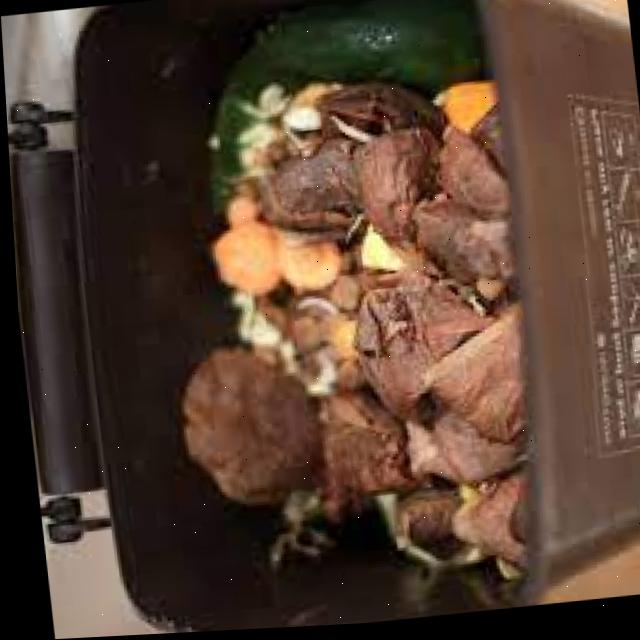Wet: (90, 0, 552, 630), (121, 6, 505, 216), (133, 328, 329, 535)
